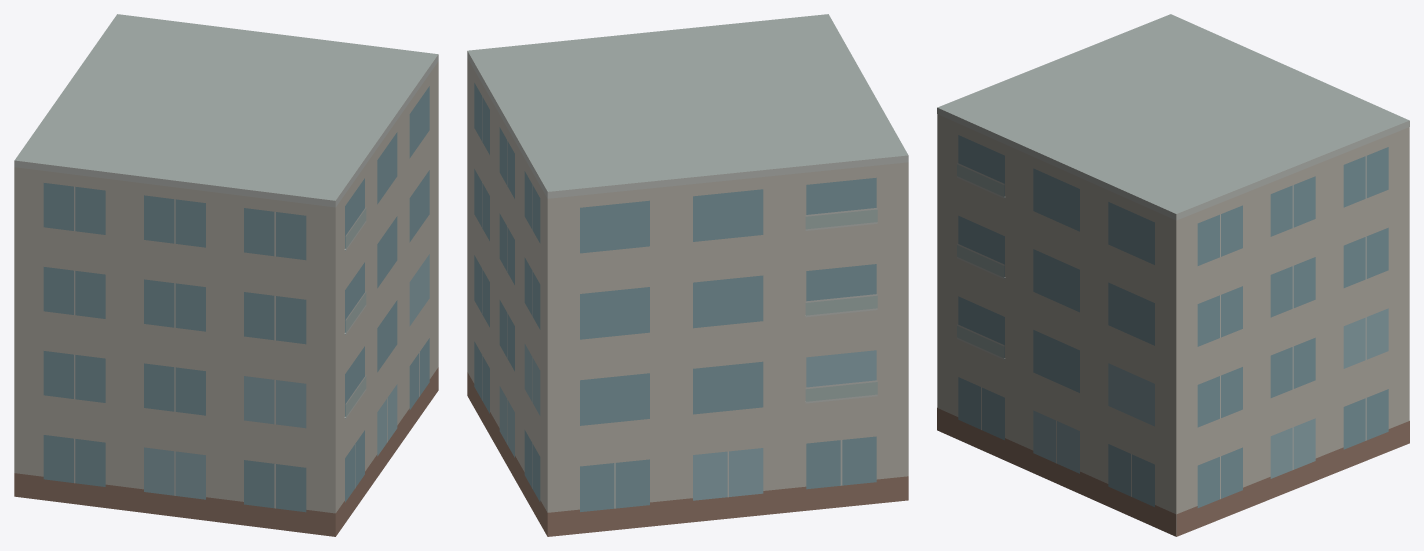
The model's file is residential-76fb67be-d5c5-4685-a204-0f4cd4415c2a.glb.
3 renders of one model, left to right at view 1: azimuth 30°, elevation 25°; view 2: azimuth 150°, elevation 25°; view 3: azimuth 270°, elevation 25°, orthographic. The views are drawn at different scales.
Visible parts, largest first — view 1: residential-76fb67be-d5c5-4685-a204-0f4cd4415c2a.tmp; view 2: residential-76fb67be-d5c5-4685-a204-0f4cd4415c2a.tmp; view 3: residential-76fb67be-d5c5-4685-a204-0f4cd4415c2a.tmp.
Boxes of the visible parts, x1,y1,x2,y2 form: residential-76fb67be-d5c5-4685-a204-0f4cd4415c2a.tmp: [14, 14, 438, 536]; residential-76fb67be-d5c5-4685-a204-0f4cd4415c2a.tmp: [467, 14, 908, 536]; residential-76fb67be-d5c5-4685-a204-0f4cd4415c2a.tmp: [937, 14, 1409, 536].
Size of the model in its own units: 16.23 by 12.2 by 16.19.
